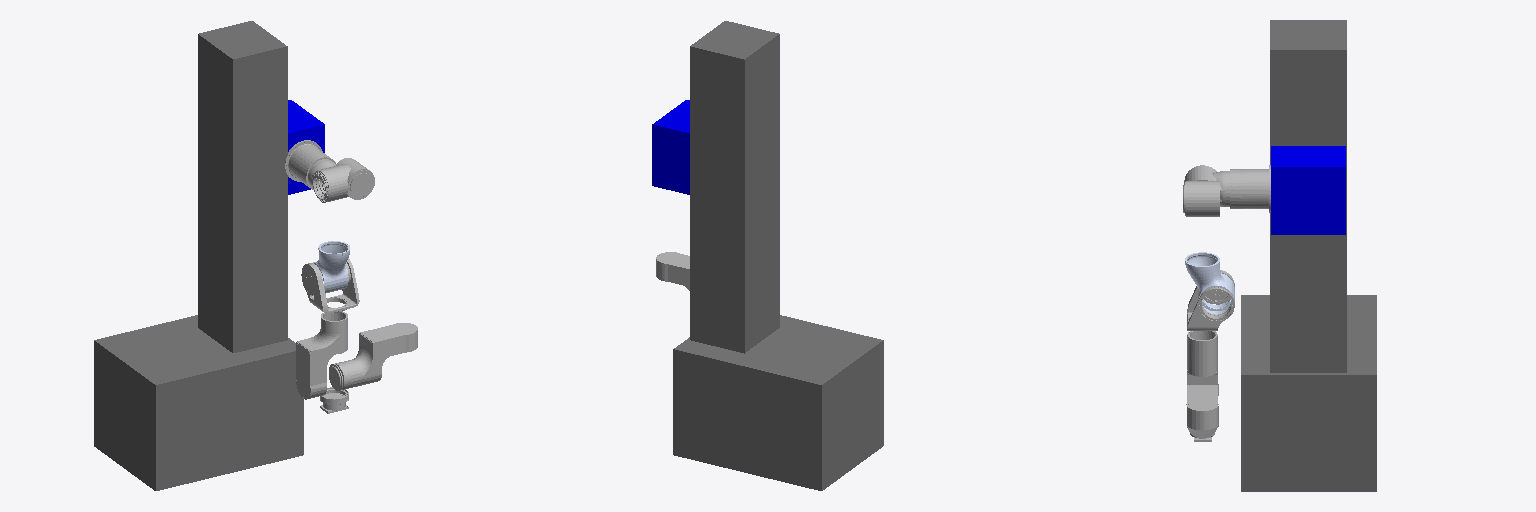
The robot description file, URDF, robot "w10_body":
<?xml version="1.0" encoding="utf-8"?>
<!-- This URDF was automatically created by SolidWorks to URDF Exporter! Originally created by Stephen Brawner (brawner@gmail.com) 
     Commit Version: 1.6.0-4-g7f85cfe  Build Version: 1.6.7995.38578
     For more information, please see http://wiki.ros.org/sw_urdf_exporter -->
<robot
  name="w10_body">

  <material name="gray">
    <color rgba="0.5 0.5 0.5 1.0" />
  </material>
  <material name="blue">
    <color rgba="0 0 1 1.0" />
  </material>
  <material name="red">
    <color rgba="1 0 0 1.0" />
  </material>
  <material name="white">
    <color rgba="1 1 1 1" />
  </material>
  <material name="green">
    <color rgba="0.0039 0.4902 0.0039 1" />
  </material>
  <material name="dark_blue">
    <color rgba="0.0039 0.0039 0.4902 1" />
  </material>
  <material name="dark_red">
    <color rgba="0.4902 0.0039 0.0039 1" />
  </material>
  <material name="black">
    <color rgba="0.2 0.2 0.2 1" />
  </material>

  <link name="world" />

  <link name="cube_base">
    <visual>
      <geometry>
        <box size="0.68 0.49 0.465" />
      </geometry>
      <material name="gray" />
    </visual>
    <collision>
      <geometry>
        <box size="0.68 0.49 0.465" />
      </geometry>
    </collision>
    <inertial>
      <mass value="5.0" />
      <inertia ixx="1.0" ixy="0.0" ixz="0.0" iyy="1.0" iyz="0.0" izz="1.0" />
    </inertial>
  </link>

  <joint name="world_joint" type="fixed">
    <parent link="world" />
    <child link="cube_base" />
    <origin xyz="0.0 0.0 0.233" rpy="0.0 0.0 0.0" />
  </joint>

  <link name="cube_body">
    <visual>
      <geometry>
        <box size="0.25 0.28 1.44" />
      </geometry>
      <material name="gray" />
    </visual>
    <collision>
      <geometry>
        <box size="0.25 0.28 1.44" />
      </geometry>
    </collision>
    <inertial>
      <mass value="5.0" />
      <inertia ixx="1.0" ixy="0.0" ixz="0.0" iyy="1.0" iyz="0.0" izz="1.0" />
    </inertial>
  </link>

  <joint name="cube_body_to_base" type="fixed">
    <parent link="cube_base" />
    <child link="cube_body" />
    <origin xyz="0.2 0 0.8" rpy="0 0 0" />
  </joint>

  <link name="cube_link">
    <visual>
      <geometry>
        <box size="0.20 0.27 0.27" />
      </geometry>
      <material name="blue" />
    </visual>
    <collision>
      <geometry>
        <box size="0.20 0.27 0.27" />
      </geometry>
    </collision>
    <inertial>
      <origin xyz="0 0 0.02" rpy="0 0 0" />
      <mass value="5.0" />
      <inertia ixx="0.5" ixy="0" ixz="0" iyy="0.5" iyz="0" izz="0.05" />
    </inertial>
  </link>

  <joint name="cube_link_to_base" type="fixed">
    <parent link="cube_body" />
    <child link="cube_link" />
    <origin xyz="0.2 0 0.2" rpy="0 0 0" />
  </joint>

  <!-- <joint name="left_arm_to_cube" type="fixed">
    <parent link="cube_link" />
    <child link="base_link" />
    <origin xyz="0 0.135 0" rpy="-1.57 -3.14 0" />
  </joint> -->

  <joint name="right_arm_to_cube" type="fixed">
    <parent link="cube_link" />
    <child link="base_link" />
    <origin xyz="0 -0.135 0" rpy="1.57 -1.57 0" />
  </joint>

  <link
    name="base_link">
    <inertial>
      <origin
        xyz="-4.5208E-06 1.396E-06 0.091972"
        rpy="0 0 0" />
      <mass
        value="2.2909" />
      <inertia
        ixx="0.007292"
        ixy="-9.2658E-08"
        ixz="-1.0714E-07"
        iyy="0.007285"
        iyz="-4.5939E-07"
        izz="0.0085503" />
    </inertial>
    <visual>
      <origin
        xyz="0 0 0"
        rpy="0 0 0" />
      <geometry>
        <mesh
          filename="package://w10_sim/meshes/base_link.STL" />
      </geometry>
      <material
        name="">
        <color
          rgba="0.75294 0.75294 0.75294 1" />
      </material>
    </visual>
    <collision>
      <origin
        xyz="0 0 0"
        rpy="0 0 0" />
      <geometry>
        <mesh
          filename="package://w10_sim/meshes/base_link.STL" />
      </geometry>
    </collision>
  </link>
  <link
    name="Link1">
    <inertial>
      <origin
        xyz="-7.7498E-06 0.0074712 0.23729"
        rpy="0 0 0" />
      <mass
        value="1.7902" />
      <inertia
        ixx="0.0044326"
        ixy="-9.695E-07"
        ixz="-2.9741E-06"
        iyy="0.005783"
        iyz="6.3081E-05"
        izz="0.004111" />
    </inertial>
    <visual>
      <origin
        xyz="0 0 0"
        rpy="0 0 0" />
      <geometry>
        <mesh
          filename="package://w10_sim/meshes/Link1.STL" />
      </geometry>
      <material
        name="">
        <color
          rgba="0.75294 0.75294 0.75294 1" />
      </material>
    </visual>
    <collision>
      <origin
        xyz="0 0 0"
        rpy="0 0 0" />
      <geometry>
        <mesh
          filename="package://w10_sim/meshes/Link1.STL" />
      </geometry>
    </collision>
  </link>
  <joint
    name="Joint1"
    type="revolute">
    <origin
      xyz="0 0 0"
      rpy="0 0 0" />
    <parent
      link="base_link" />
    <child
      link="Link1" />
    <axis
      xyz="0 0 1" />
    <limit
      lower="-3.14159"
      upper="3.14159"
      effort="150"
      velocity="1.57" />
  </joint>
  <link
    name="Link2">
    <inertial>
      <origin
        xyz="0.00037178 0.16001 -4.5604E-05"
        rpy="0 0 0" />
      <mass
        value="3.6686" />
      <inertia
        ixx="0.0194"
        ixy="6.6606E-05"
        ixz="-7.1662E-05"
        iyy="0.01431"
        iyz="0.00050157"
        izz="0.016052" />
    </inertial>
    <visual>
      <origin
        xyz="0 0 0"
        rpy="0 0 0" />
      <geometry>
        <mesh
          filename="package://w10_sim/meshes/Link2.STL" />
      </geometry>
      <material
        name="">
        <color
          rgba="0.75294 0.75294 0.75294 1" />
      </material>
    </visual>
    <collision>
      <origin
        xyz="0 0 0"
        rpy="0 0 0" />
      <geometry>
        <mesh
          filename="package://w10_sim/meshes/Link2.STL" />
      </geometry>
    </collision>
  </link>
  <joint
    name="Joint2"
    type="revolute">
    <origin
      xyz="0 0 0.248"
      rpy="1.5708 -1.5708 0" />
    <parent
      link="Link1" />
    <child
      link="Link2" />
    <axis
      xyz="0 0 -1" />
    <limit
      lower="-3.14159"
      upper="3.14159"
      effort="150"
      velocity="1.57" />
  </joint>
  <link
    name="Link3">
    <inertial>
      <origin
        xyz="0.0317650732299706 -8.75058174038268E-05 -0.0401197895533406"
        rpy="0 0 0" />
      <mass
        value="1.08340806836632" />
      <inertia
        ixx="0.0055354350246501"
        ixy="-1.24970567336768E-05"
        ixz="-0.0012018205685461"
        iyy="0.00676653220988555"
        iyz="-1.1936128068962E-05"
        izz="0.00377122222019624" />
    </inertial>
    <visual>
      <origin
        xyz="0 0 0"
        rpy="0 0 0" />
      <geometry>
        <mesh
          filename="package://w10_sim/meshes/Link3.STL" />
      </geometry>
      <material
        name="">
        <color
          rgba="0.866666666666667 0.909803921568627 1 1" />
      </material>
    </visual>
    <collision>
      <origin
        xyz="0 0 0"
        rpy="0 0 0" />
      <geometry>
        <mesh
          filename="package://w10_sim/meshes/Link3.STL" />
      </geometry>
    </collision>
  </link>
  <joint
    name="Joint3"
    type="revolute">
    <origin
      xyz="0 0.425 0"
      rpy="1.5708 0 -3.1416" />
    <parent
      link="Link2" />
    <child
      link="Link3" />
    <axis
      xyz="0 0 1" />
    <limit
      lower="-3.14159"
      upper="3.14159"
      effort="150"
      velocity="1.57" />
  </joint>
  <link
    name="Link4">
    <inertial>
      <origin
        xyz="0.0160855337130036 0.0244220238192113 -0.0140914135214584"
        rpy="0 0 0" />
      <mass
        value="2.95948805637316" />
      <inertia
        ixx="0.00986102443186048"
        ixy="-0.000785511294194122"
        ixz="-5.30757510475327E-05"
        iyy="0.00939426486393401"
        iyz="-0.000322215108284144"
        izz="0.00792432385260811" />
    </inertial>
    <visual>
      <origin
        xyz="0 0 0"
        rpy="0 0 0" />
      <geometry>
        <mesh
          filename="package://w10_sim/meshes/Link4.STL" />
      </geometry>
      <material
        name="">
        <color
          rgba="0.752941176470588 0.752941176470588 0.752941176470588 1" />
      </material>
    </visual>
    <collision>
      <origin
        xyz="0 0 0"
        rpy="0 0 0" />
      <geometry>
        <mesh
          filename="package://w10_sim/meshes/Link4.STL" />
      </geometry>
    </collision>
  </link>
  <joint
    name="Joint4"
    type="revolute">
    <origin
      xyz="0.05 0 0"
      rpy="1.5708 0 3.1416" />
    <parent
      link="Link3" />
    <child
      link="Link4" />
    <axis
      xyz="0 0 -1" />
    <limit
      lower="-3.14159"
      upper="3.14159"
      effort="150"
      velocity="1.57" />
  </joint>
  <link
    name="Link5">
    <inertial>
      <origin
        xyz="6.72056388206776E-06 -0.0367557919639413 -0.181485998918127"
        rpy="0 0 0" />
      <mass
        value="2.83332837536096" />
      <inertia
        ixx="0.0154967151939413"
        ixy="2.47801432245023E-07"
        ixz="-8.02945241132858E-08"
        iyy="0.0143840168739248"
        iyz="0.00397451877041743"
        izz="0.00790844728912351" />
    </inertial>
    <visual>
      <origin
        xyz="0 0 0"
        rpy="0 0 0" />
      <geometry>
        <mesh
          filename="package://w10_sim/meshes/Link5.STL" />
      </geometry>
      <material
        name="">
        <color
          rgba="0.752941176470588 0.752941176470588 0.752941176470588 1" />
      </material>
    </visual>
    <collision>
      <origin
        xyz="0 0 0"
        rpy="0 0 0" />
      <geometry>
        <mesh
          filename="package://w10_sim/meshes/Link5.STL" />
      </geometry>
    </collision>
  </link>
  <joint
    name="Joint5"
    type="revolute">
    <origin
      xyz="0.05 0.4267 0"
      rpy="1.5708 0 3.1416" />
    <parent
      link="Link4" />
    <child
      link="Link5" />
    <axis
      xyz="0 0 1" />
    <limit
      lower="-3.14159"
      upper="3.14159"
      effort="150"
      velocity="1.57" />
  </joint>
  <link
    name="Link6">
    <inertial>
      <origin
        xyz="-7.4172E-05 -0.0056448 -0.035346"
        rpy="0 0 0" />
      <mass
        value="2.9816" />
      <inertia
        ixx="0.0033715"
        ixy="-2.0791E-07"
        ixz="-6.4744E-08"
        iyy="0.0045824"
        iyz="1.1174E-05"
        izz="0.0039673" />
    </inertial>
    <visual>
      <origin
        xyz="0 0 0"
        rpy="0 0 0" />
      <geometry>
        <mesh
          filename="package://w10_sim/meshes/Link6.STL" />
      </geometry>
      <material
        name="">
        <color
          rgba="0.75294 0.75294 0.75294 1" />
      </material>
    </visual>
    <collision>
      <origin
        xyz="0 0 0"
        rpy="0 0 0" />
      <geometry>
        <mesh
          filename="package://w10_sim/meshes/Link6.STL" />
      </geometry>
    </collision>
  </link>
  <joint
    name="Joint6"
    type="revolute">
    <origin
      xyz="0 0 0"
      rpy="1.5708 0 -3.1416" />
    <parent
      link="Link5" />
    <child
      link="Link6" />
    <axis
      xyz="0 0 -1" />
    <limit
      lower="-3.14159"
      upper="3.14159"
      effort="150"
      velocity="1.57" />
  </joint>
  <link
    name="Link7">
    <inertial>
      <origin
        xyz="0.00037847 0.00049256 -0.026974"
        rpy="0 0 0" />
      <mass
        value="1.298" />
      <inertia
        ixx="0.00095899"
        ixy="-3.4434E-06"
        ixz="6.3871E-07"
        iyy="0.0009081"
        iyz="-1.5055E-06"
        izz="0.0017806" />
    </inertial>
    <visual>
      <origin
        xyz="0 0 0"
        rpy="0 0 0" />
      <geometry>
        <mesh
          filename="package://w10_sim/meshes/Link7.STL" />
      </geometry>
      <material
        name="">
        <color
          rgba="0.75294 0.75294 0.75294 1" />
      </material>
    </visual>
    <collision>
      <origin
        xyz="0 0 0"
        rpy="0 0 0" />
      <geometry>
        <mesh
          filename="package://w10_sim/meshes/Link7.STL" />
      </geometry>
    </collision>
  </link>
  <joint
    name="Joint7"
    type="revolute">
    <origin
      xyz="0 0.1334 0"
      rpy="1.5708 0 3.1416" />
    <parent
      link="Link6" />
    <child
      link="Link7" />
    <axis
      xyz="0 0 1" />
    <limit
      lower="-3.14159"
      upper="3.14159"
      effort="150"
      velocity="1.57" />
  </joint>
</robot>

--- Render facts (derived) ---
3 views of the same robot in one strip: view 1: azimuth 30°, elevation 25°; view 2: azimuth 150°, elevation 25°; view 3: azimuth 270°, elevation 25° (orthographic).
Robot: w10_body — 12 links, 11 joints (7 revolute, 4 fixed); root link world; default pose: all joints at 0.
Links seen in each view (by area): view 1: cube_body, cube_base, Link6, Link5, Link4, cube_link, Link3, Link1, base_link, Link2, Link7; view 2: cube_base, cube_body, cube_link, Link6; view 3: cube_base, cube_body, cube_link, base_link, Link5, Link3, Link6, Link4, Link2, Link1.
Boxes of the visible links, left/top/right/bottom form: cube_body: left=198, top=21, right=287, bottom=352; cube_base: left=94, top=315, right=303, bottom=490; Link6: left=329, top=323, right=417, bottom=390; Link5: left=296, top=312, right=347, bottom=399; Link4: left=301, top=258, right=359, bottom=313; cube_link: left=288, top=100, right=324, bottom=194; Link3: left=313, top=241, right=349, bottom=293; Link1: left=310, top=160, right=350, bottom=202; base_link: left=285, top=140, right=335, bottom=189; Link2: left=336, top=158, right=374, bottom=199; Link7: left=320, top=387, right=348, bottom=413; cube_base: left=673, top=315, right=883, bottom=490; cube_body: left=690, top=21, right=779, bottom=353; cube_link: left=652, top=100, right=689, bottom=194; Link6: left=656, top=252, right=689, bottom=290; cube_base: left=1241, top=295, right=1376, bottom=491; cube_body: left=1270, top=20, right=1346, bottom=372; cube_link: left=1271, top=146, right=1345, bottom=234; base_link: left=1226, top=165, right=1270, bottom=212; Link5: left=1187, top=331, right=1218, bottom=395; Link3: left=1185, top=252, right=1234, bottom=314; Link6: left=1186, top=385, right=1218, bottom=437; Link4: left=1187, top=270, right=1234, bottom=330; Link2: left=1183, top=181, right=1219, bottom=216; Link1: left=1184, top=165, right=1225, bottom=206.
Size in the robot's own frame: 1.11 by 0.6971 by 1.75 metres.
Meshes: 8 distinct files referenced, 8 mesh visuals loaded (8 binary STL).
